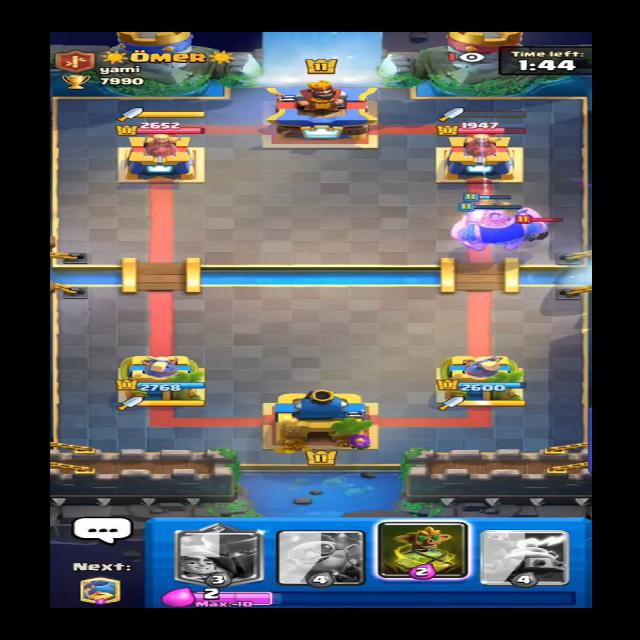mini-pekka: (508, 215, 570, 248)
